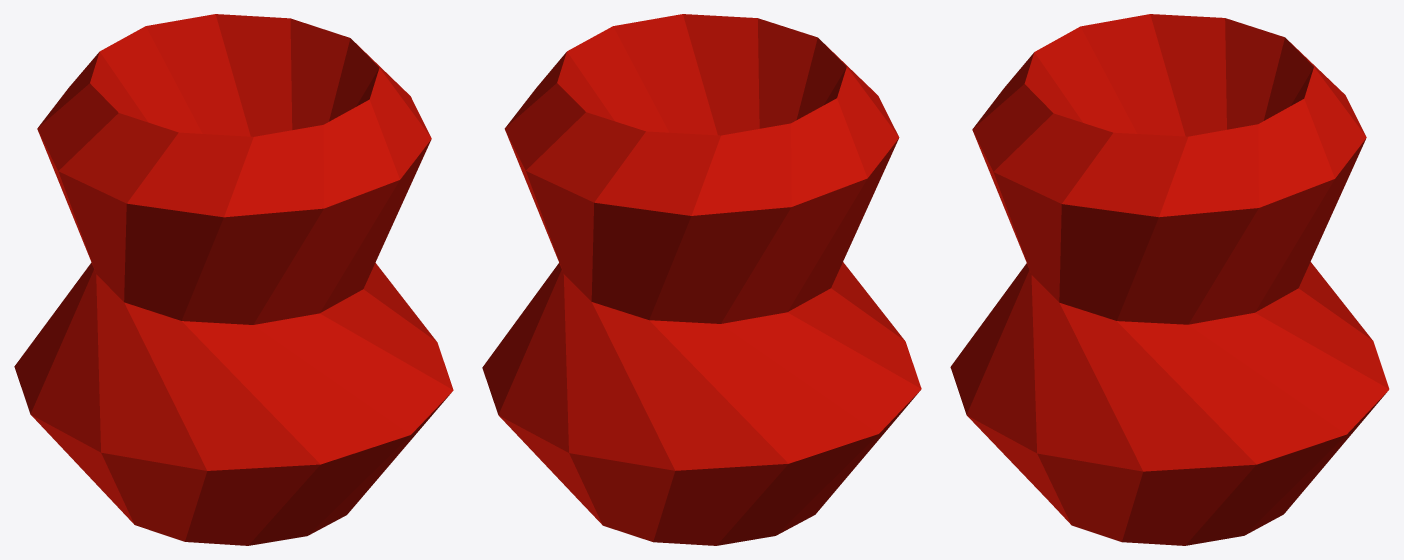
Rendered from Twist.fbx.
3 views of the same model, side by side, from view 1: azimuth 30°, elevation 25°; view 2: azimuth 150°, elevation 25°; view 3: azimuth 270°, elevation 25° (orthographic).
Parts seen in each view (by area): view 1: Twist; view 2: Twist; view 3: Twist.
Boxes of the visible parts, x1,y1,x2,y2 form: Twist: [14, 14, 453, 545]; Twist: [482, 14, 921, 545]; Twist: [950, 14, 1389, 545].
Bounding box in the file's own units: 0.4981 × 0.5252 × 0.4981.
